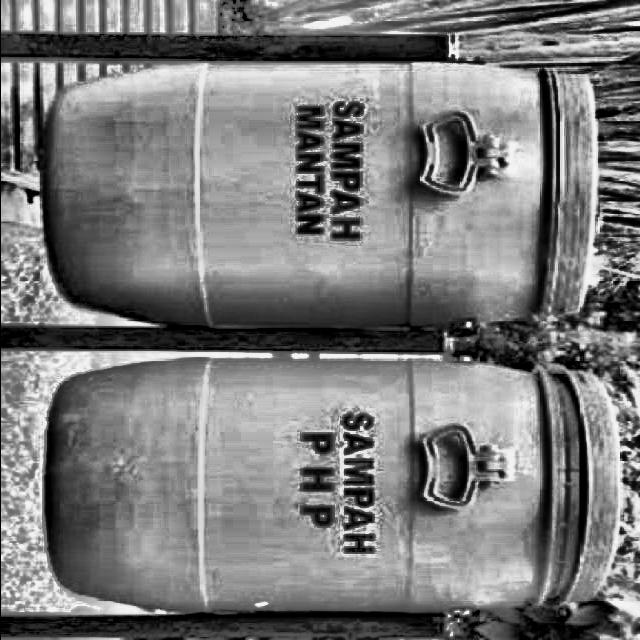Dustbin: (31, 56, 598, 335), (31, 356, 632, 616)
